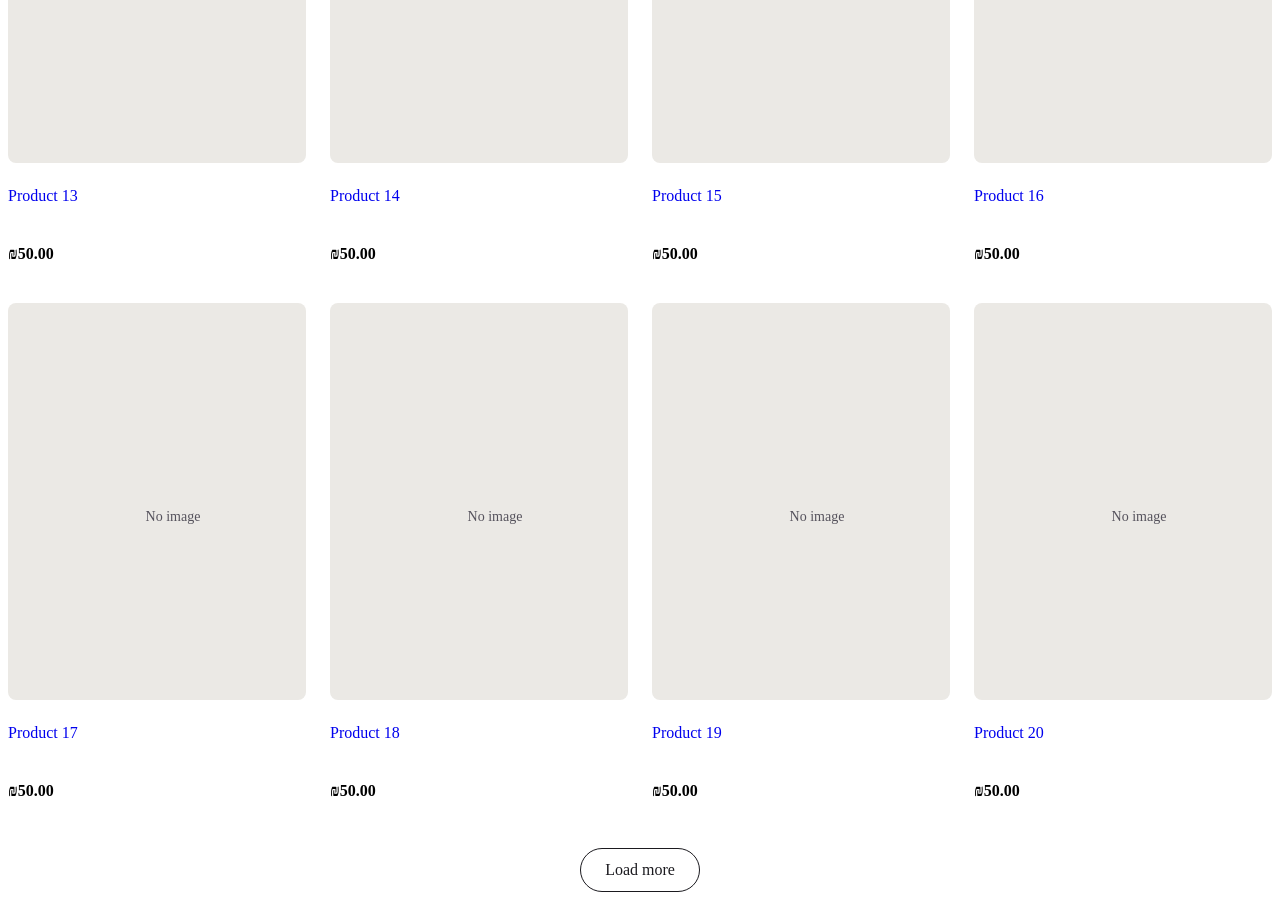
CategoryProductsPage › keeps the button focusable with aria-disabled while loading and ignores repeated clicks
Later steps or results of the test are not shown.
(page scrolled)
Click the button "Load more": (640, 870) 580,848 -> 700,892
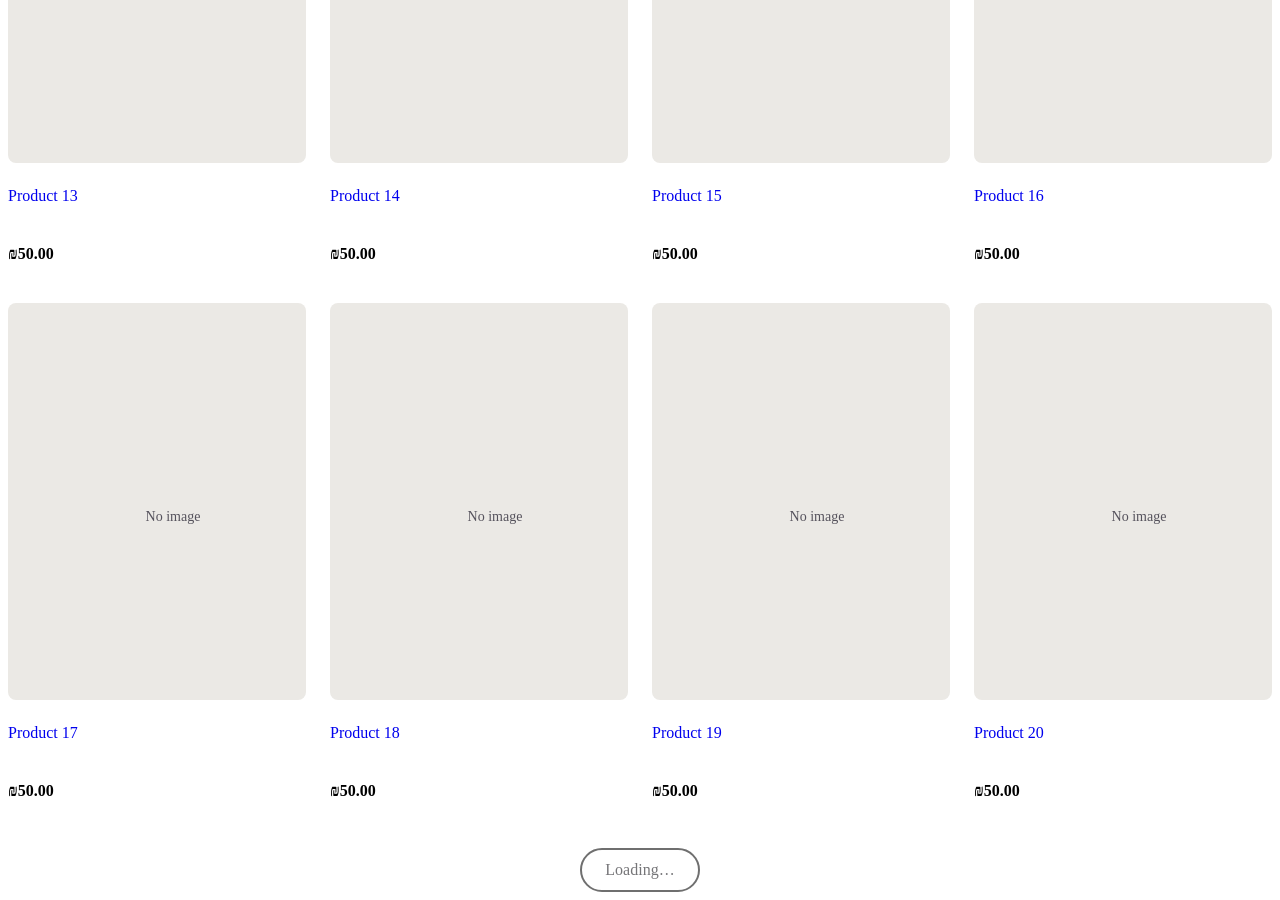
Result: the button "Loading…" is enabled at 580,848 -> 700,892
